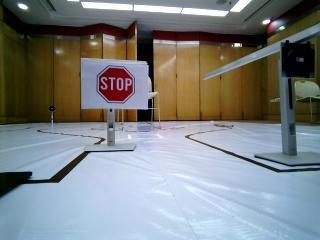stop: (86, 65, 142, 107)
